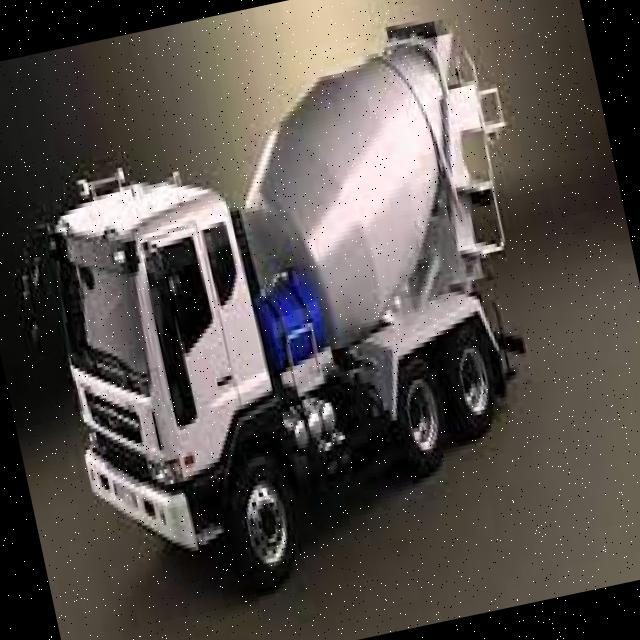Mixer Truck: (0, 4, 594, 630)
